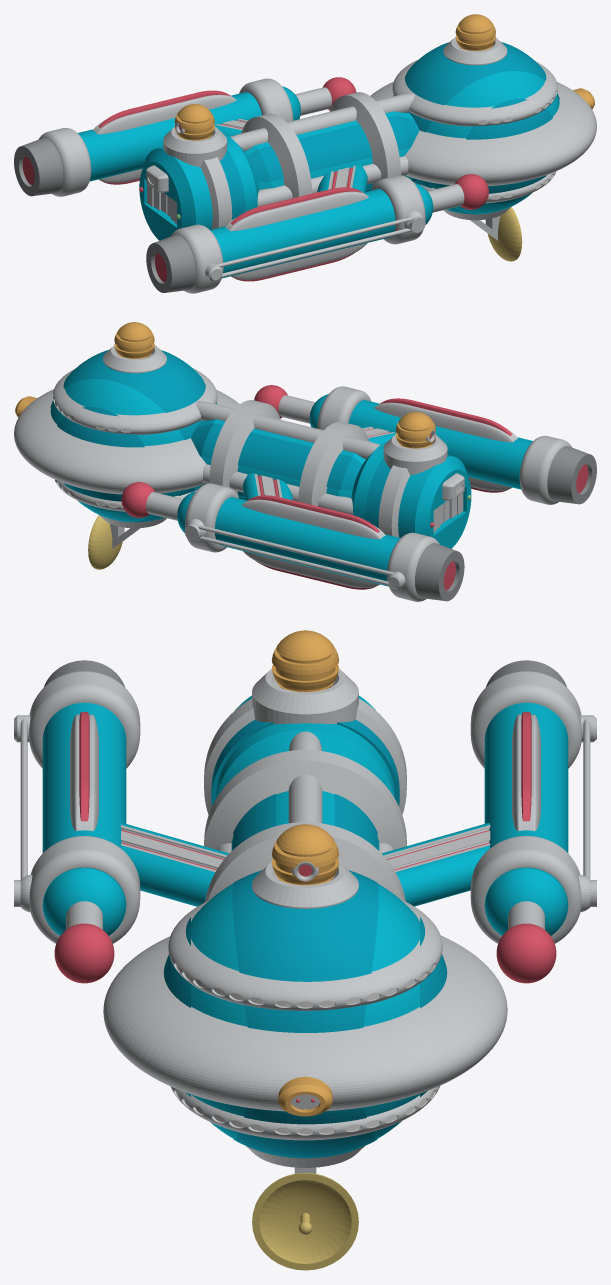
Rendered from Earth Victory Class Destroyer v3.glb.
3 views of the same model, one above another, from view 1: azimuth 30°, elevation 25°; view 2: azimuth 150°, elevation 25°; view 3: azimuth 270°, elevation 25° (orthographic). The views are drawn at different scales.
Parts seen in each view (by area): view 1: Mesh_Mesh_head_geo.001_lambert2SG.001; view 2: Mesh_Mesh_head_geo.001_lambert2SG.001; view 3: Mesh_Mesh_head_geo.001_lambert2SG.001.
Part boxes in pixels (bbox=[...]): Mesh_Mesh_head_geo.001_lambert2SG.001: bbox=[14, 14, 596, 293]; Mesh_Mesh_head_geo.001_lambert2SG.001: bbox=[14, 322, 596, 601]; Mesh_Mesh_head_geo.001_lambert2SG.001: bbox=[14, 630, 596, 1270].
Bounding box in the file's own units: 98.96 × 47.74 × 60.3.
